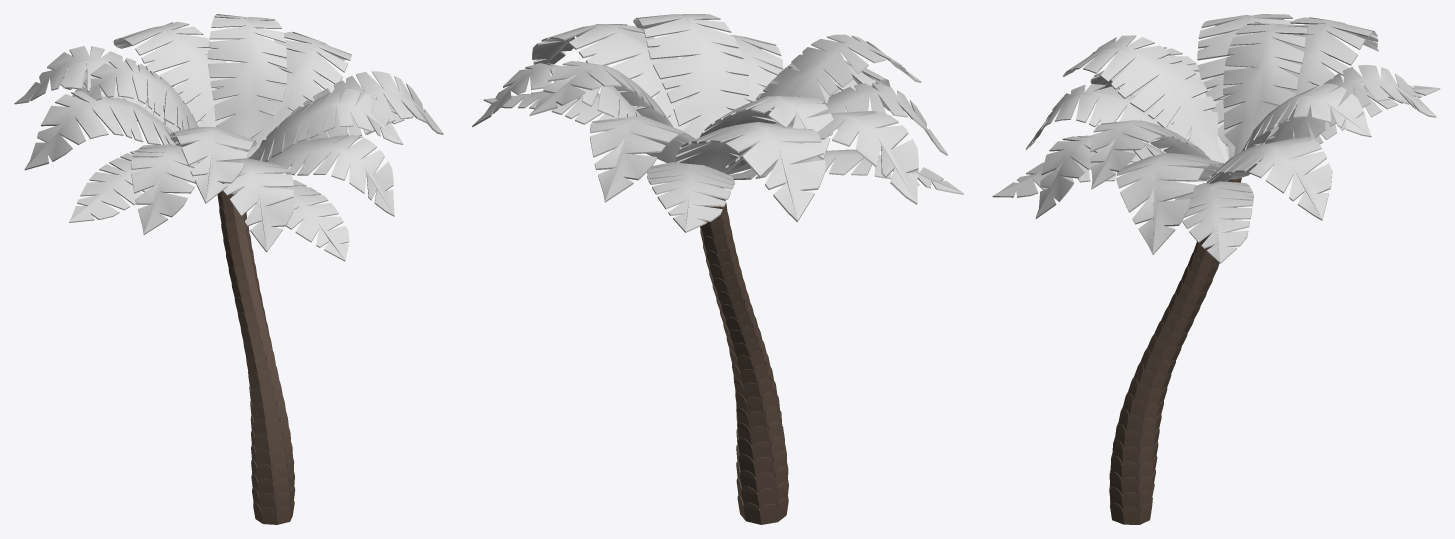
File: palm 2.fbx
3 renders of one model, left to right at view 1: azimuth 30°, elevation 25°; view 2: azimuth 150°, elevation 25°; view 3: azimuth 270°, elevation 25°, orthographic. The views are drawn at different scales.
Visible parts, largest first — view 1: leaves, tronc; view 2: leaves, tronc; view 3: leaves, tronc.
Part boxes in pixels (x1,y1,x2,y2): leaves: (14,14,443,261); tronc: (217,182,295,524); leaves: (472,14,963,232); tronc: (700,187,788,524); leaves: (992,14,1440,263); tronc: (1109,177,1241,524).
Bounding box in the file's own units: 1575 × 1662 × 1497.
